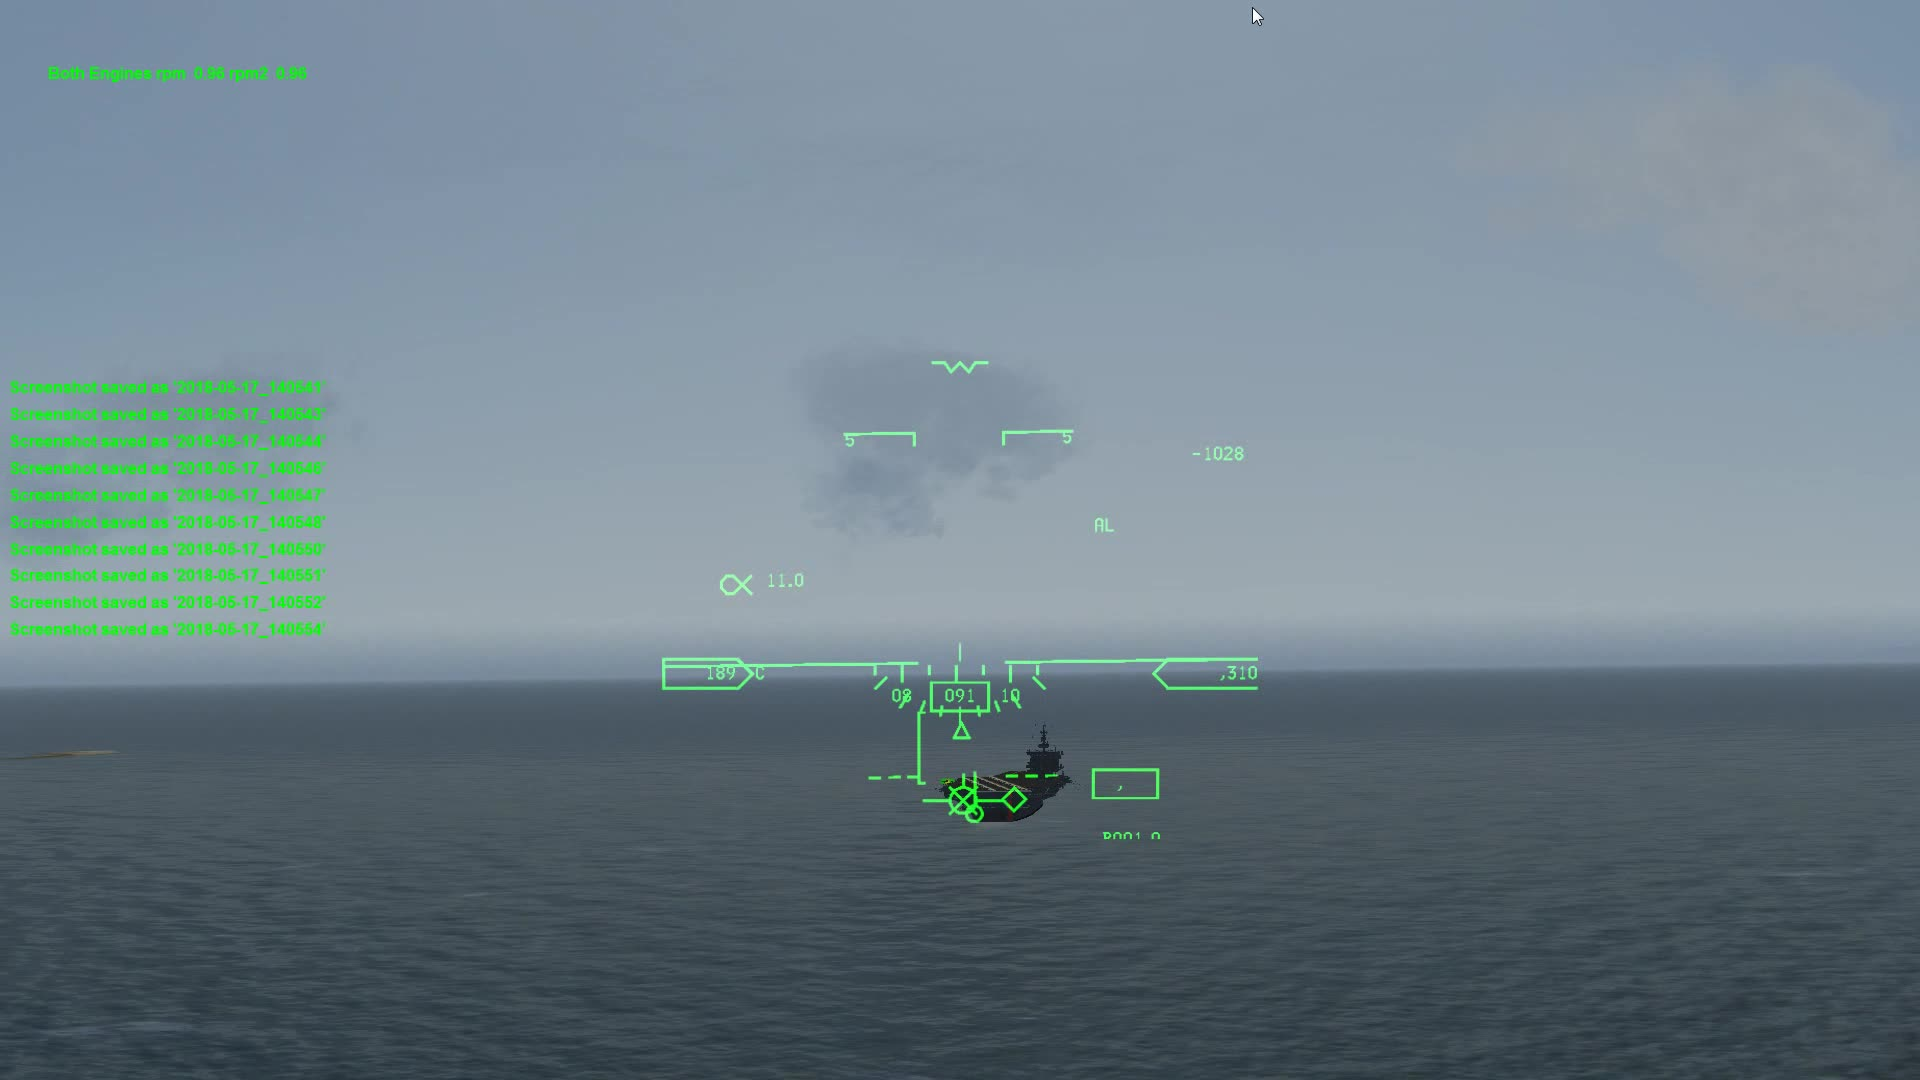speed vector: (928, 773, 997, 818)
